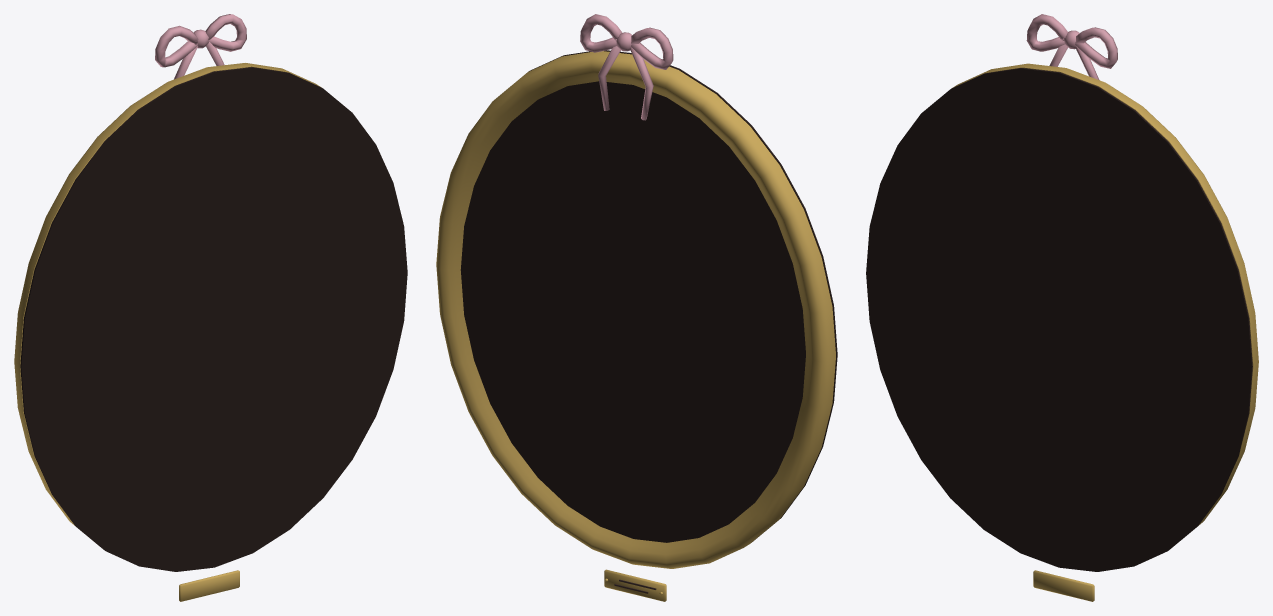
File: oval_ribbon_oval_p.glb
The picture shows the model from 3 angles, left to right: view 1: azimuth 30°, elevation 25°; view 2: azimuth 150°, elevation 25°; view 3: azimuth 330°, elevation 25°; orthographic projection. The views are drawn at different scales.
Parts seen in each view (by area): view 1: oval_ribbon_oval_p; view 2: oval_ribbon_oval_p; view 3: oval_ribbon_oval_p.
Part boxes in pixels (x1,y1,x2,y2): oval_ribbon_oval_p: (14, 14, 407, 601); oval_ribbon_oval_p: (436, 14, 837, 601); oval_ribbon_oval_p: (866, 14, 1258, 601).
Size of what is drawn, in the model's own units: 0.8903 by 1.25 by 0.0763.
